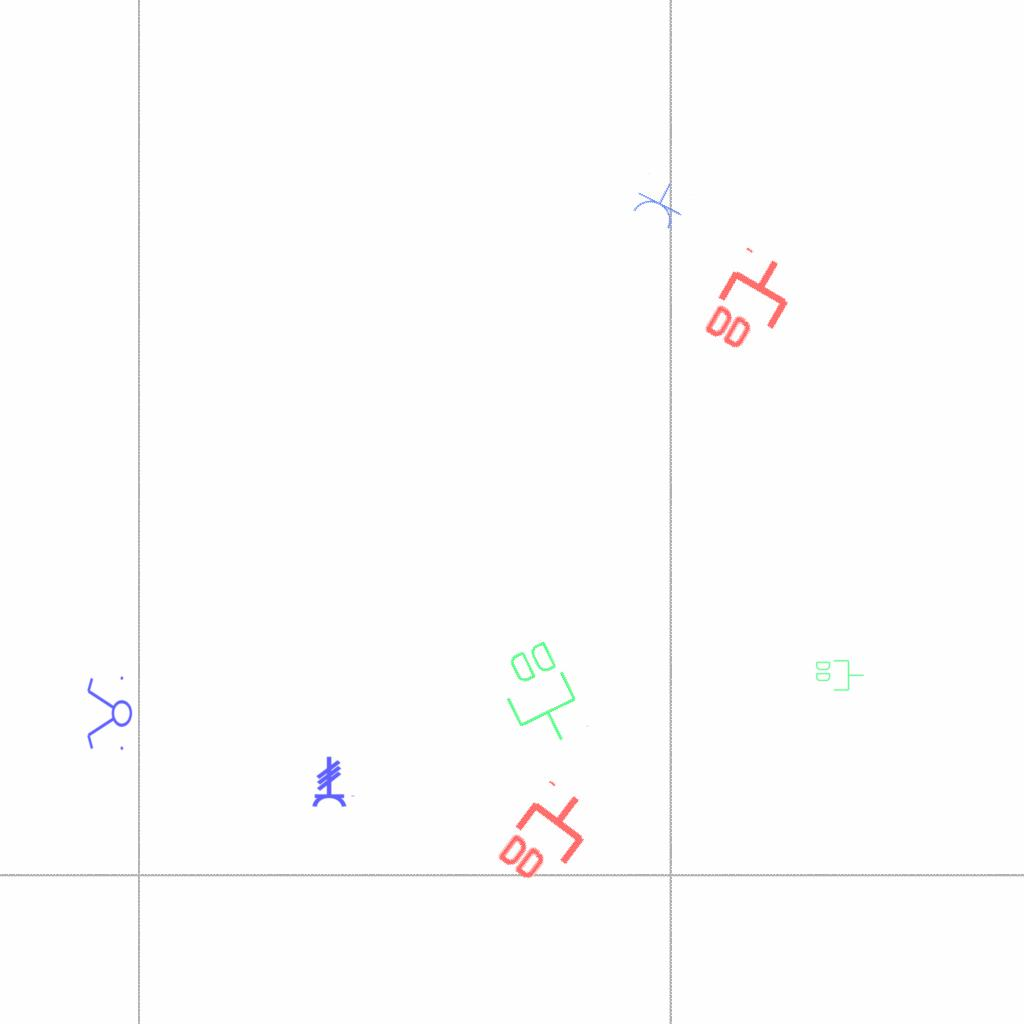CEE_Drehstrom_Steckdose_16_32_A: (311, 756, 356, 808)
Datenanschluss_zweifach: (489, 775, 608, 900), (696, 242, 809, 367), (486, 634, 595, 757), (814, 658, 865, 692)
Schukosteckdose_einfach: (627, 171, 693, 234)
Serienschalter: (85, 672, 133, 756)
